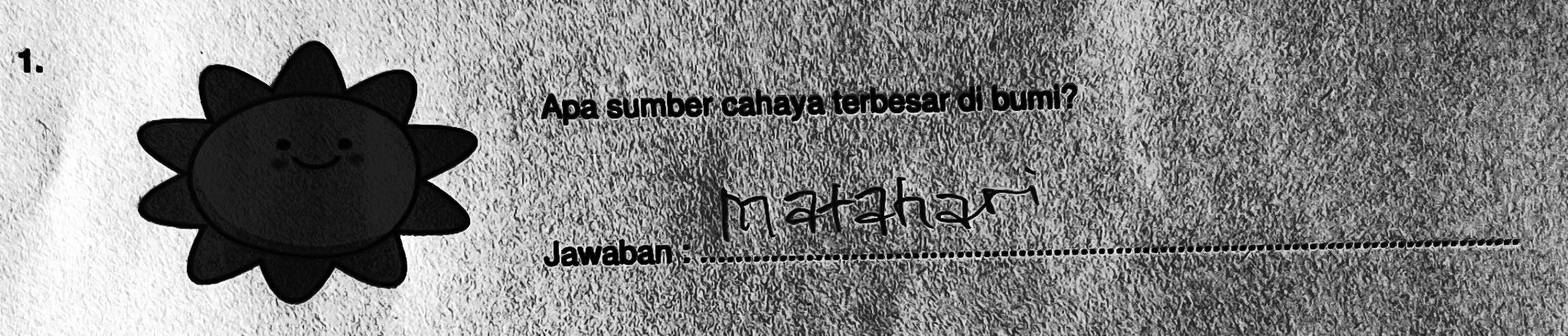jawaban: (713, 163, 1053, 245)
